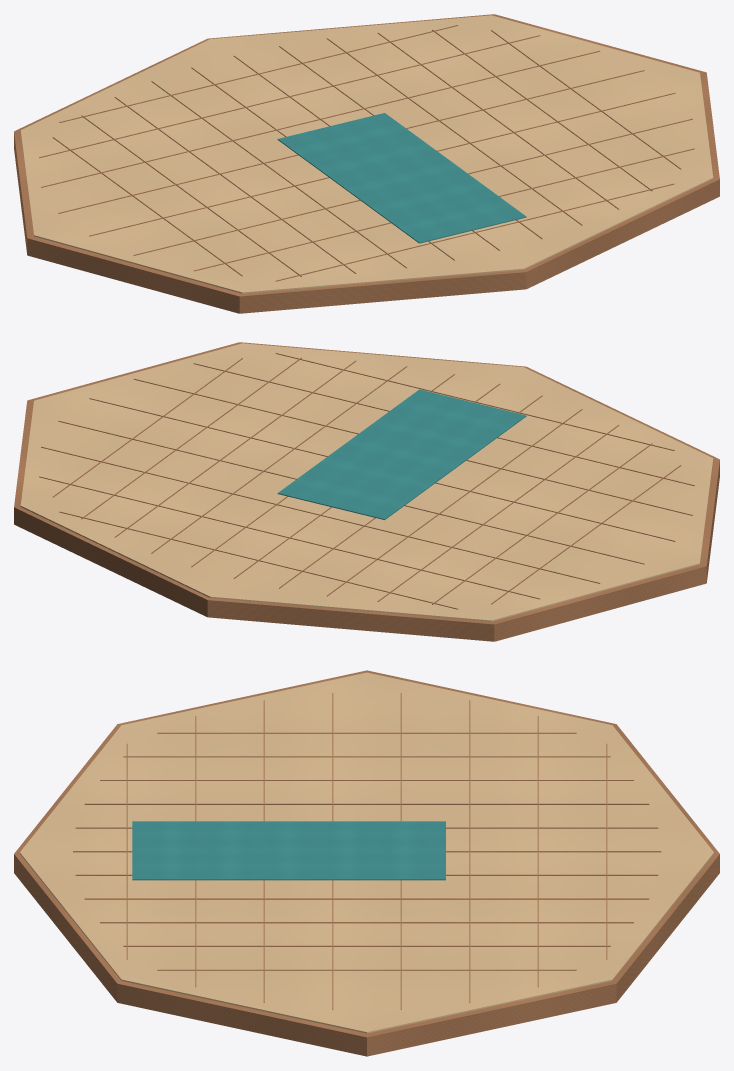
The model's file is atlas100-s092-a07.glb.
The picture shows the model from 3 angles, top to bottom: view 1: azimuth 30°, elevation 25°; view 2: azimuth 150°, elevation 25°; view 3: azimuth 270°, elevation 25°; orthographic projection. The views are drawn at different scales.
Parts seen in each view (by area): view 1: atlas100-s092-a07:part-001, atlas100-s092-a07:part-000, atlas100-s092-a07:part-021, atlas100-s092-a07:part-015, atlas100-s092-a07:part-014, atlas100-s092-a07:part-016, atlas100-s092-a07:part-017, atlas100-s092-a07:part-018, atlas100-s092-a07:part-013, atlas100-s092-a07:part-020, atlas100-s092-a07:part-019, atlas100-s092-a07:part-009 (+3 smaller); view 2: atlas100-s092-a07:part-001, atlas100-s092-a07:part-000, atlas100-s092-a07:part-021, atlas100-s092-a07:part-015, atlas100-s092-a07:part-014, atlas100-s092-a07:part-017, atlas100-s092-a07:part-016, atlas100-s092-a07:part-018, atlas100-s092-a07:part-013, atlas100-s092-a07:part-020, atlas100-s092-a07:part-019, atlas100-s092-a07:part-009 (+3 smaller); view 3: atlas100-s092-a07:part-001, atlas100-s092-a07:part-000, atlas100-s092-a07:part-021, atlas100-s092-a07:part-009, atlas100-s092-a07:part-005, atlas100-s092-a07:part-010, atlas100-s092-a07:part-011, atlas100-s092-a07:part-003, atlas100-s092-a07:part-002, atlas100-s092-a07:part-012.
Boxes of the visible parts, <box> form: atlas100-s092-a07:part-001: <box>20,15,713,293</box>; atlas100-s092-a07:part-000: <box>14,14,719,313</box>; atlas100-s092-a07:part-021: <box>277,113,526,243</box>; atlas100-s092-a07:part-015: <box>41,50,600,187</box>; atlas100-s092-a07:part-014: <box>39,35,540,157</box>; atlas100-s092-a07:part-016: <box>58,70,644,213</box>; atlas100-s092-a07:part-017: <box>89,93,675,236</box>; atlas100-s092-a07:part-018: <box>133,118,692,255</box>; atlas100-s092-a07:part-013: <box>59,25,458,122</box>; atlas100-s092-a07:part-020: <box>276,183,674,281</box>; atlas100-s092-a07:part-019: <box>194,148,694,271</box>; atlas100-s092-a07:part-009: <box>326,38,582,225</box>; atlas100-s092-a07:part-001: <box>20,343,713,621</box>; atlas100-s092-a07:part-000: <box>14,342,719,641</box>; atlas100-s092-a07:part-021: <box>277,389,526,519</box>; atlas100-s092-a07:part-015: <box>41,446,600,583</box>; atlas100-s092-a07:part-014: <box>39,476,539,599</box>; atlas100-s092-a07:part-017: <box>89,398,675,541</box>; atlas100-s092-a07:part-016: <box>58,421,644,564</box>; atlas100-s092-a07:part-018: <box>133,378,692,515</box>; atlas100-s092-a07:part-013: <box>59,511,457,609</box>; atlas100-s092-a07:part-020: <box>275,353,674,450</box>; atlas100-s092-a07:part-019: <box>193,363,694,485</box>; atlas100-s092-a07:part-009: <box>151,366,407,553</box>; atlas100-s092-a07:part-001: <box>20,672,713,1033</box>; atlas100-s092-a07:part-000: <box>14,670,719,1056</box>; atlas100-s092-a07:part-021: <box>132,821,445,880</box>; atlas100-s092-a07:part-009: <box>84,898,649,899</box>; atlas100-s092-a07:part-005: <box>84,803,649,804</box>; atlas100-s092-a07:part-010: <box>100,922,633,923</box>; atlas100-s092-a07:part-011: <box>123,945,610,946</box>; atlas100-s092-a07:part-003: <box>123,756,610,757</box>; atlas100-s092-a07:part-002: <box>157,732,576,733</box>; atlas100-s092-a07:part-012: <box>157,969,576,970</box>.
Bounding box in the file's own units: 13.95 × 0.404 × 11.34.
3 materials, 3 textured.
